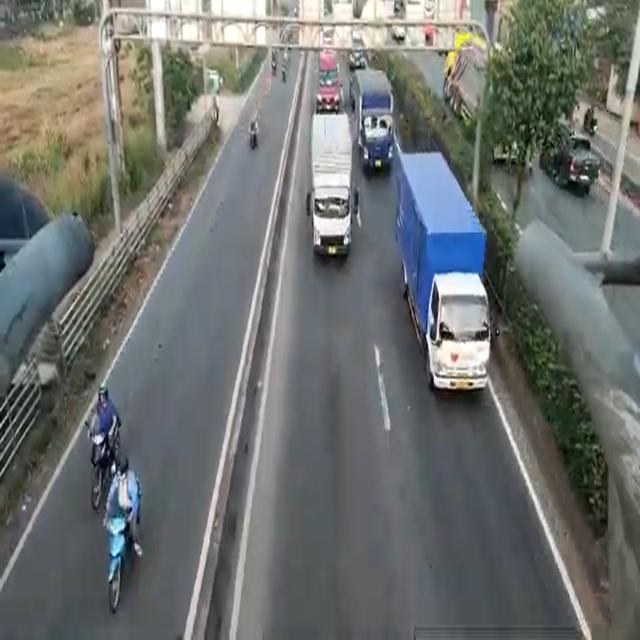motor: (98, 504, 129, 601), (87, 418, 108, 512)
truck: (392, 157, 492, 394), (312, 115, 352, 265), (352, 68, 394, 171), (316, 46, 340, 116)
